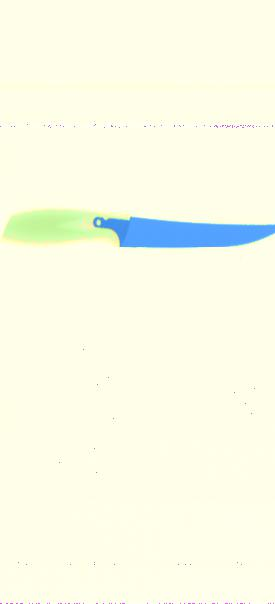Knife: (3, 209, 275, 250)
